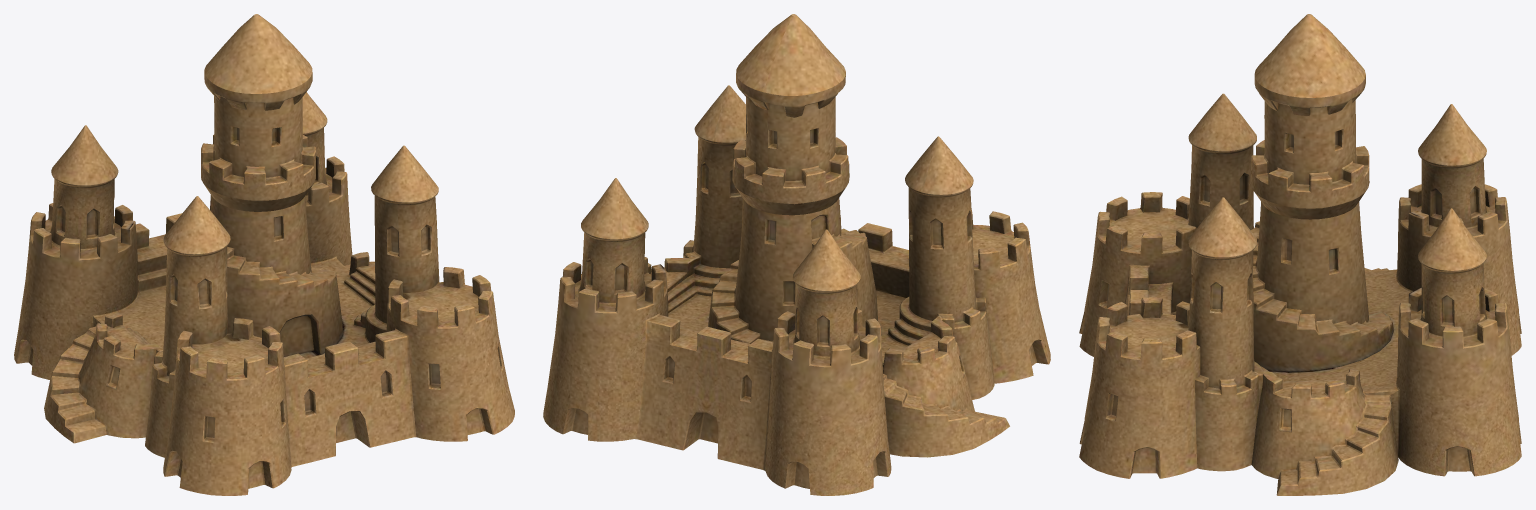
File: sandcastle.glb
The picture shows the model from 3 angles, left to right: view 1: azimuth 30°, elevation 25°; view 2: azimuth 150°, elevation 25°; view 3: azimuth 270°, elevation 25°; orthographic projection. The views are drawn at different scales.
Parts seen in each view (by area): view 1: Cylinder.001, Cylinder.002; view 2: Cylinder.001, Cylinder.002; view 3: Cylinder.001, Cylinder.002.
Boxes of the visible parts, bbox=[...] form: Cylinder.001: bbox=[14, 92, 514, 495]; Cylinder.002: bbox=[201, 14, 343, 356]; Cylinder.001: bbox=[543, 85, 1050, 495]; Cylinder.002: bbox=[708, 14, 877, 343]; Cylinder.001: bbox=[1079, 93, 1521, 495]; Cylinder.002: bbox=[1250, 14, 1393, 371].
Size of the model in its own units: 9.07 by 7.95 by 8.42.
1 material, 1 textured.
